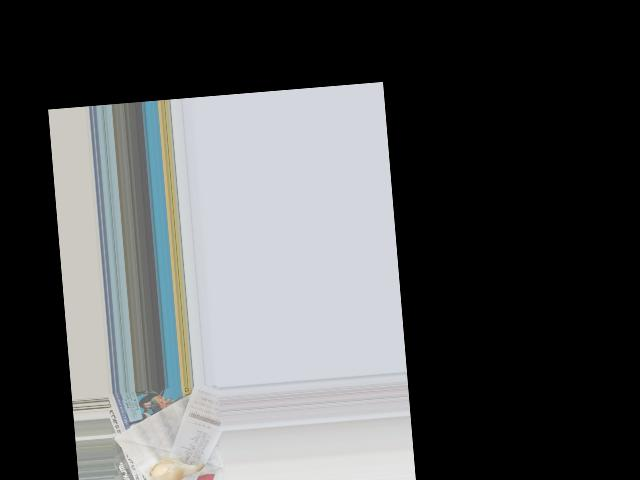onion: (151, 455, 201, 480)
